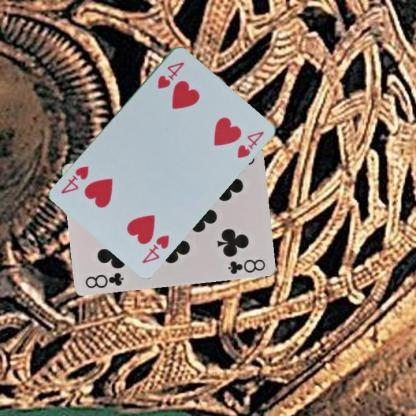4h: (139, 232, 171, 264), (154, 59, 186, 89)
8c: (82, 270, 126, 290)
